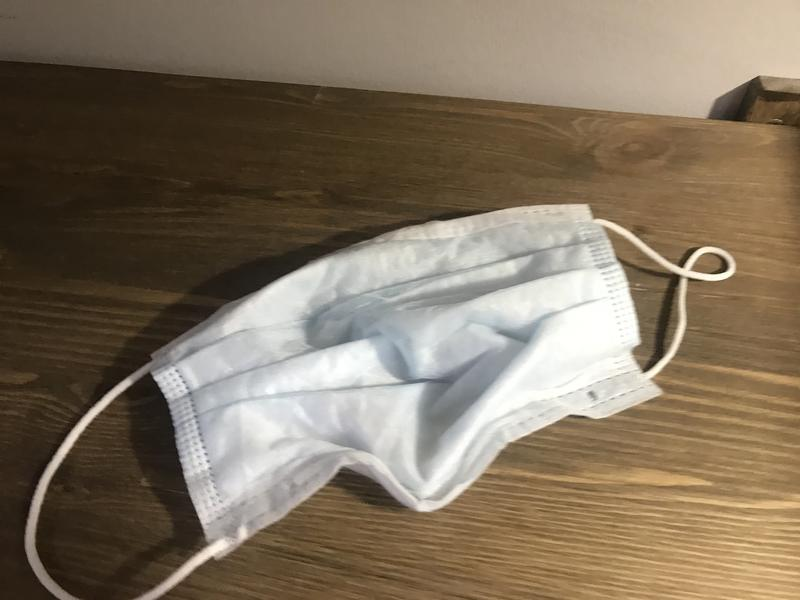medical_mask: (22, 201, 735, 596)
